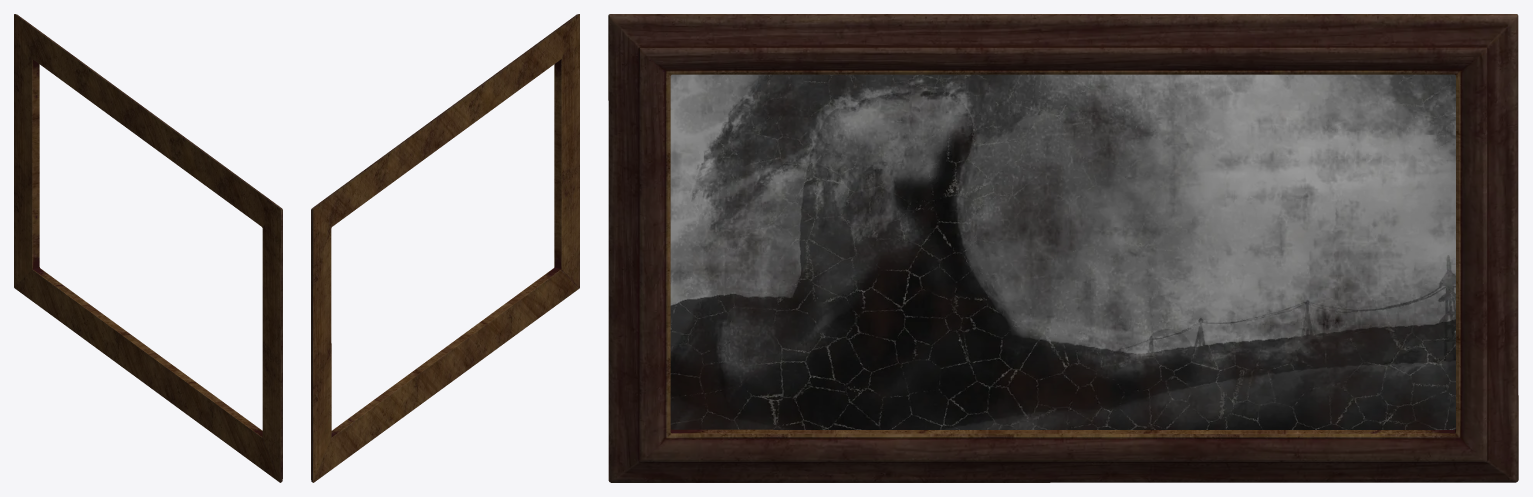
The model's file is paint1.glb.
The picture shows the model from 3 angles, left to right: view 1: azimuth 30°, elevation 25°; view 2: azimuth 150°, elevation 25°; view 3: azimuth 270°, elevation 25°; orthographic projection. The views are drawn at different scales.
Parts seen in each view (by area): view 1: Frame_Frame_0; view 2: Frame_Frame_0; view 3: Image_Image_0, Frame_Frame_0.
Part boxes in pixels (box(x1,y1,x2,y2)): Frame_Frame_0: box(14, 14, 282, 482); Frame_Frame_0: box(311, 14, 579, 482); Image_Image_0: box(670, 74, 1455, 429); Frame_Frame_0: box(608, 14, 1518, 482).
Size of the model in its own units: 0.0129 by 0.3417 by 0.6019.
Materials: 2 (2 with a texture image).
